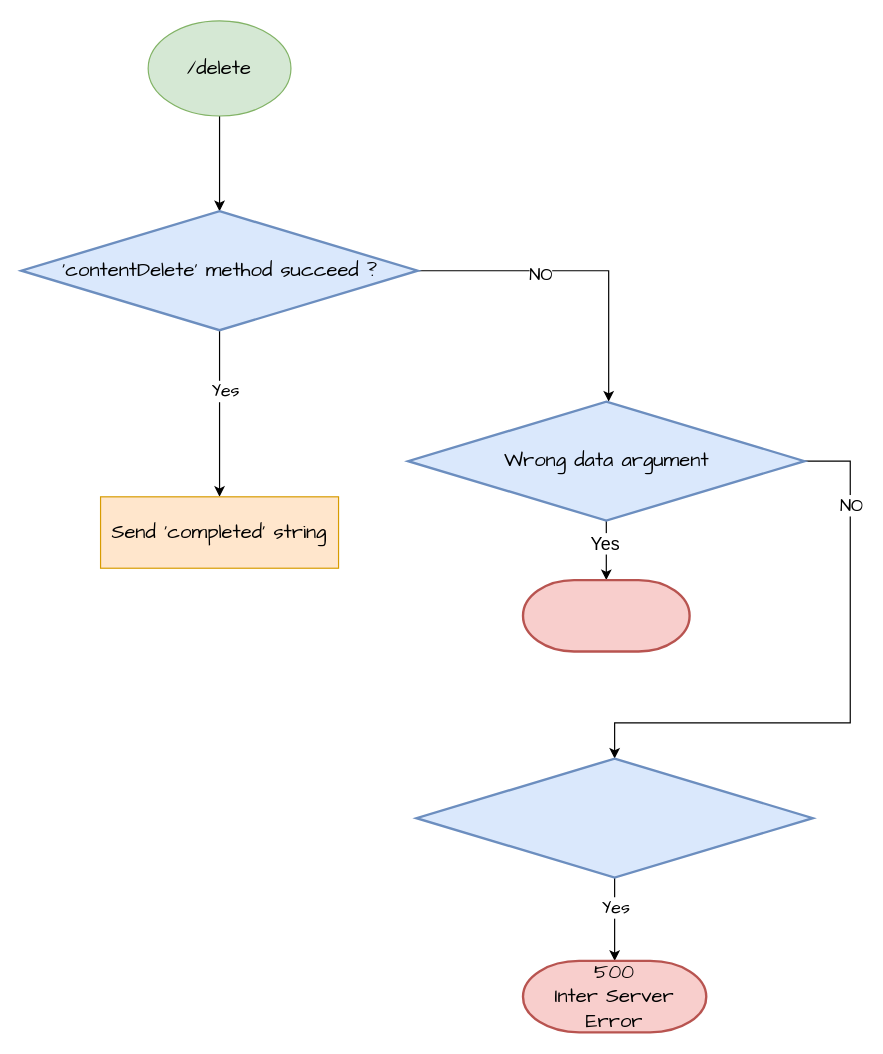
Image size: 883x1054. Some labels were removed from this diagram. Each missing label, with the centre of its shape:
"400 Bad Request" belongs at [605,615].
"Sequelize API" belongs at [614,817].
